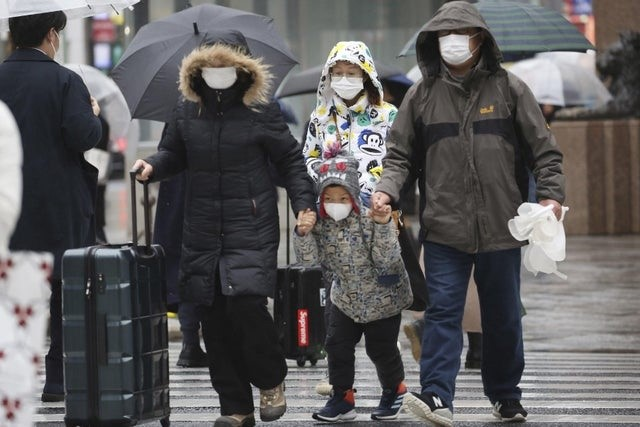face_with_mask: (9, 0, 67, 64), (428, 8, 483, 67), (324, 45, 373, 103), (317, 156, 358, 223), (197, 42, 242, 91)
